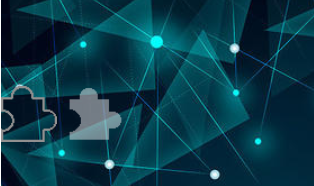target: (61, 84, 127, 149)
